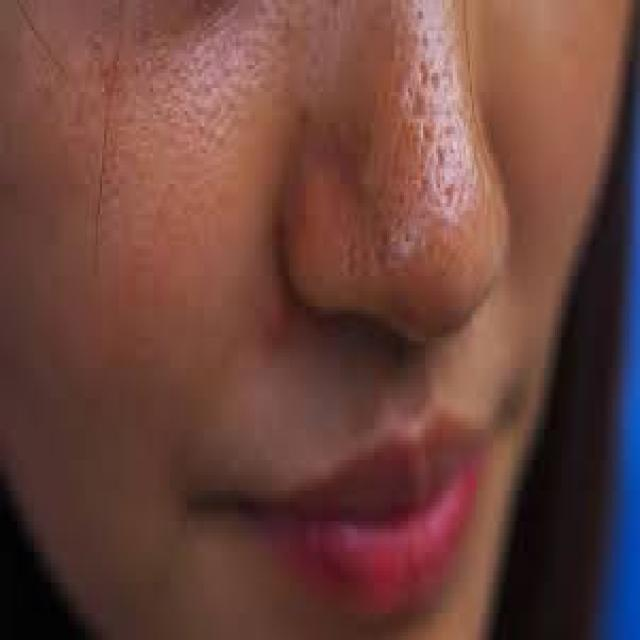oily: (81, 70, 640, 626)
pores: (352, 37, 520, 273)
